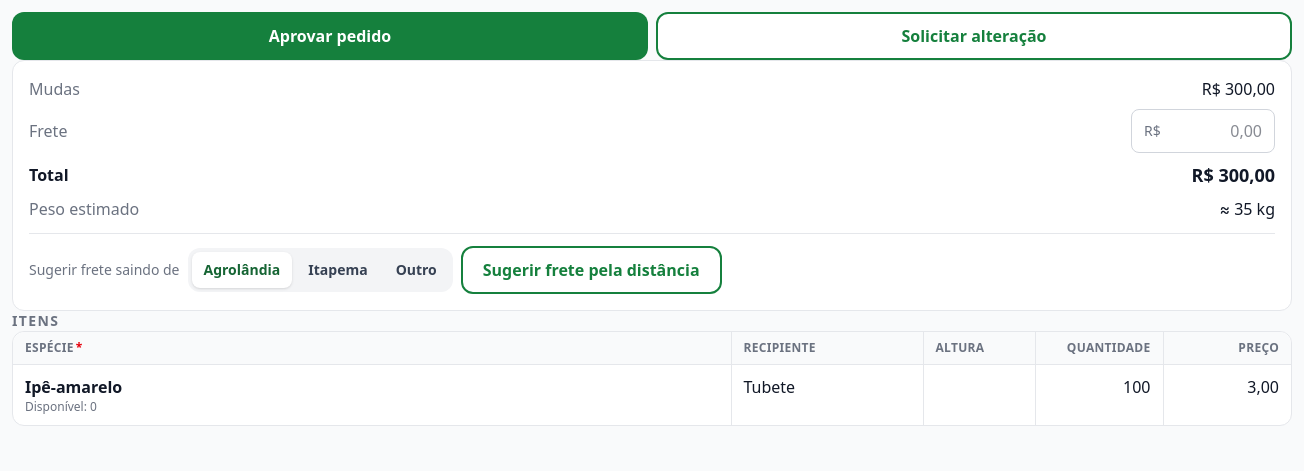
Scenario: ItensDaFicha: o fechamento do pedido (RF-66) › o aviso da sugestão aparece, e o campo fica como estava
Click the button "Sugerir frete pela distância" at (591, 270), box [461,246,722,294]
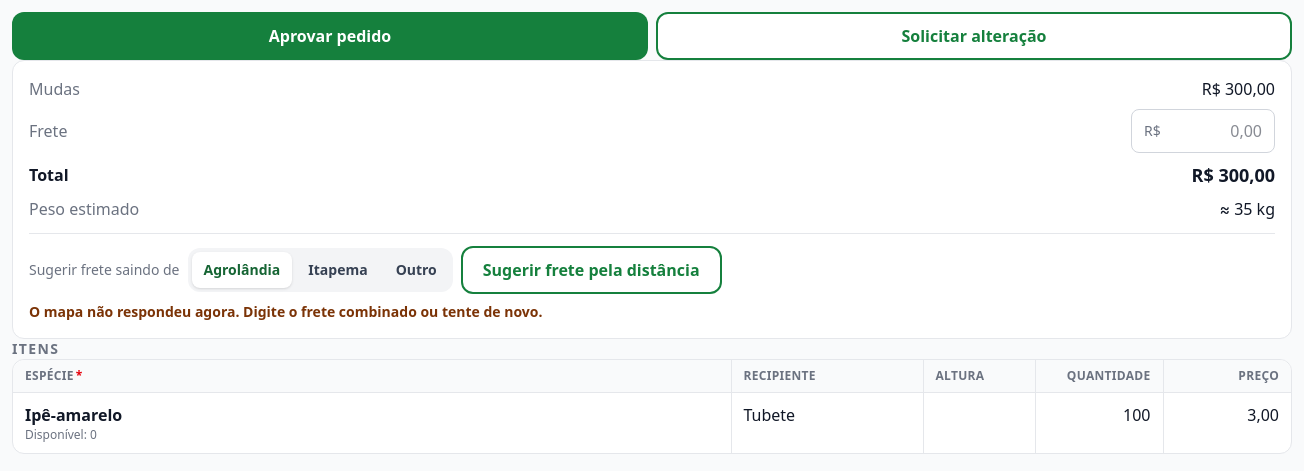
expect the field named "Frete" is empty: met, box [1169,119,1262,143]
expect the text "O mapa não respondeu" is shown: met, box [29,302,542,321]
